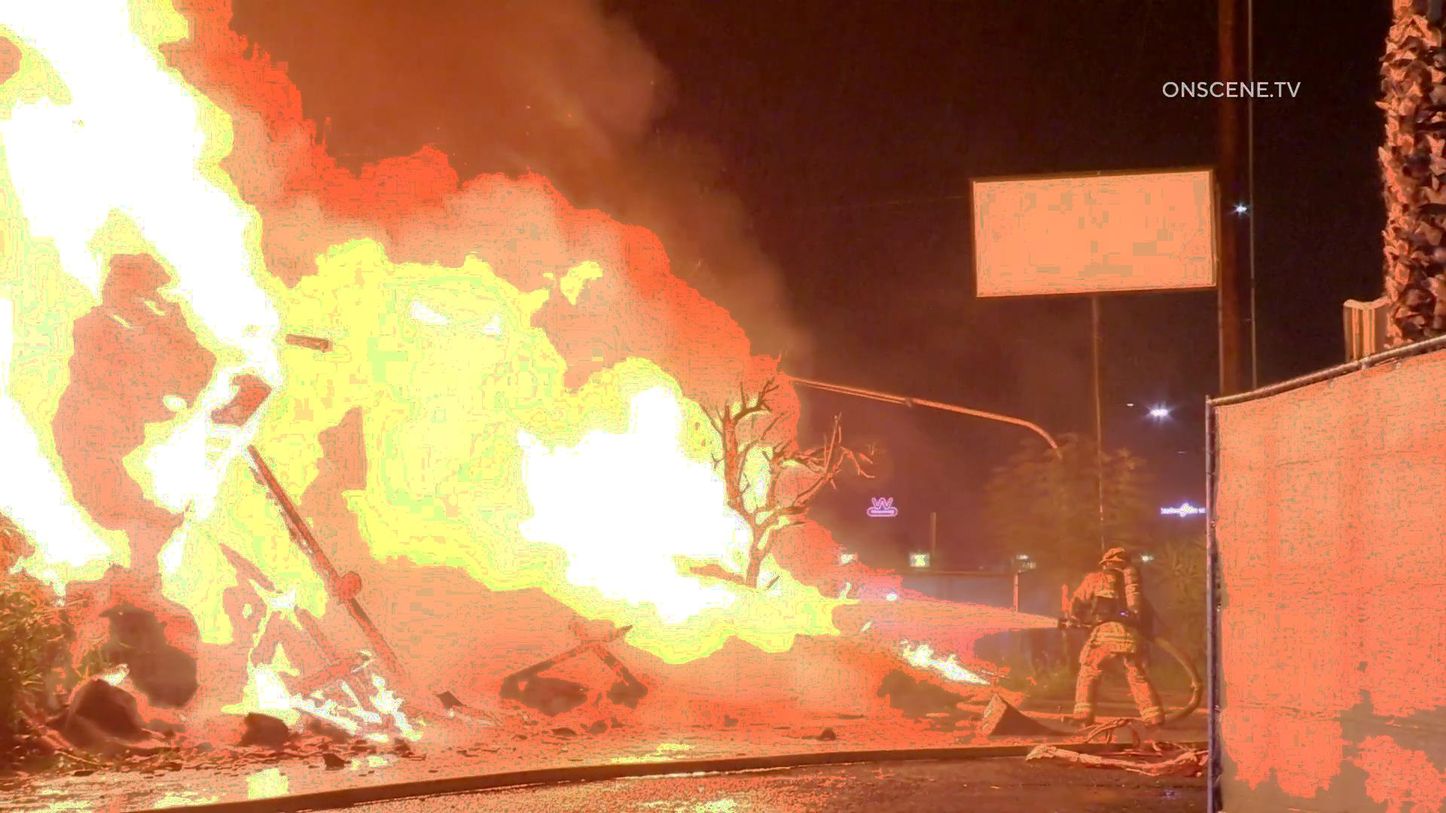fire: (0, 0, 262, 358), (305, 6, 620, 264), (569, 356, 734, 568)
